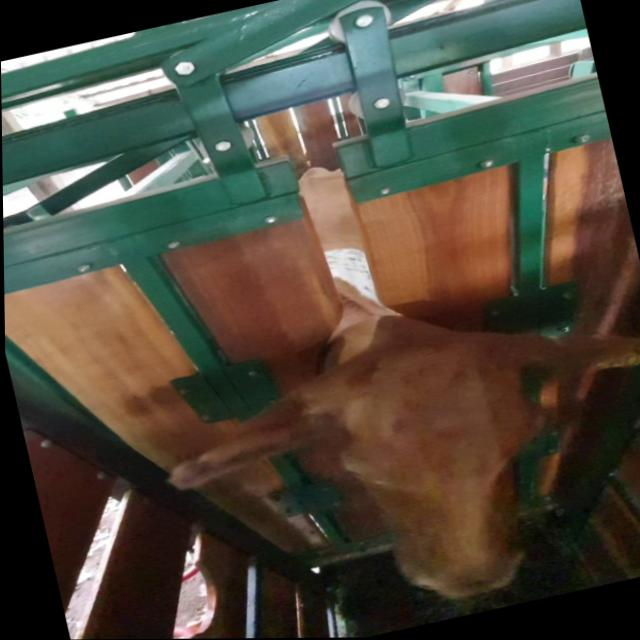cowFace: (323, 319, 588, 619)
